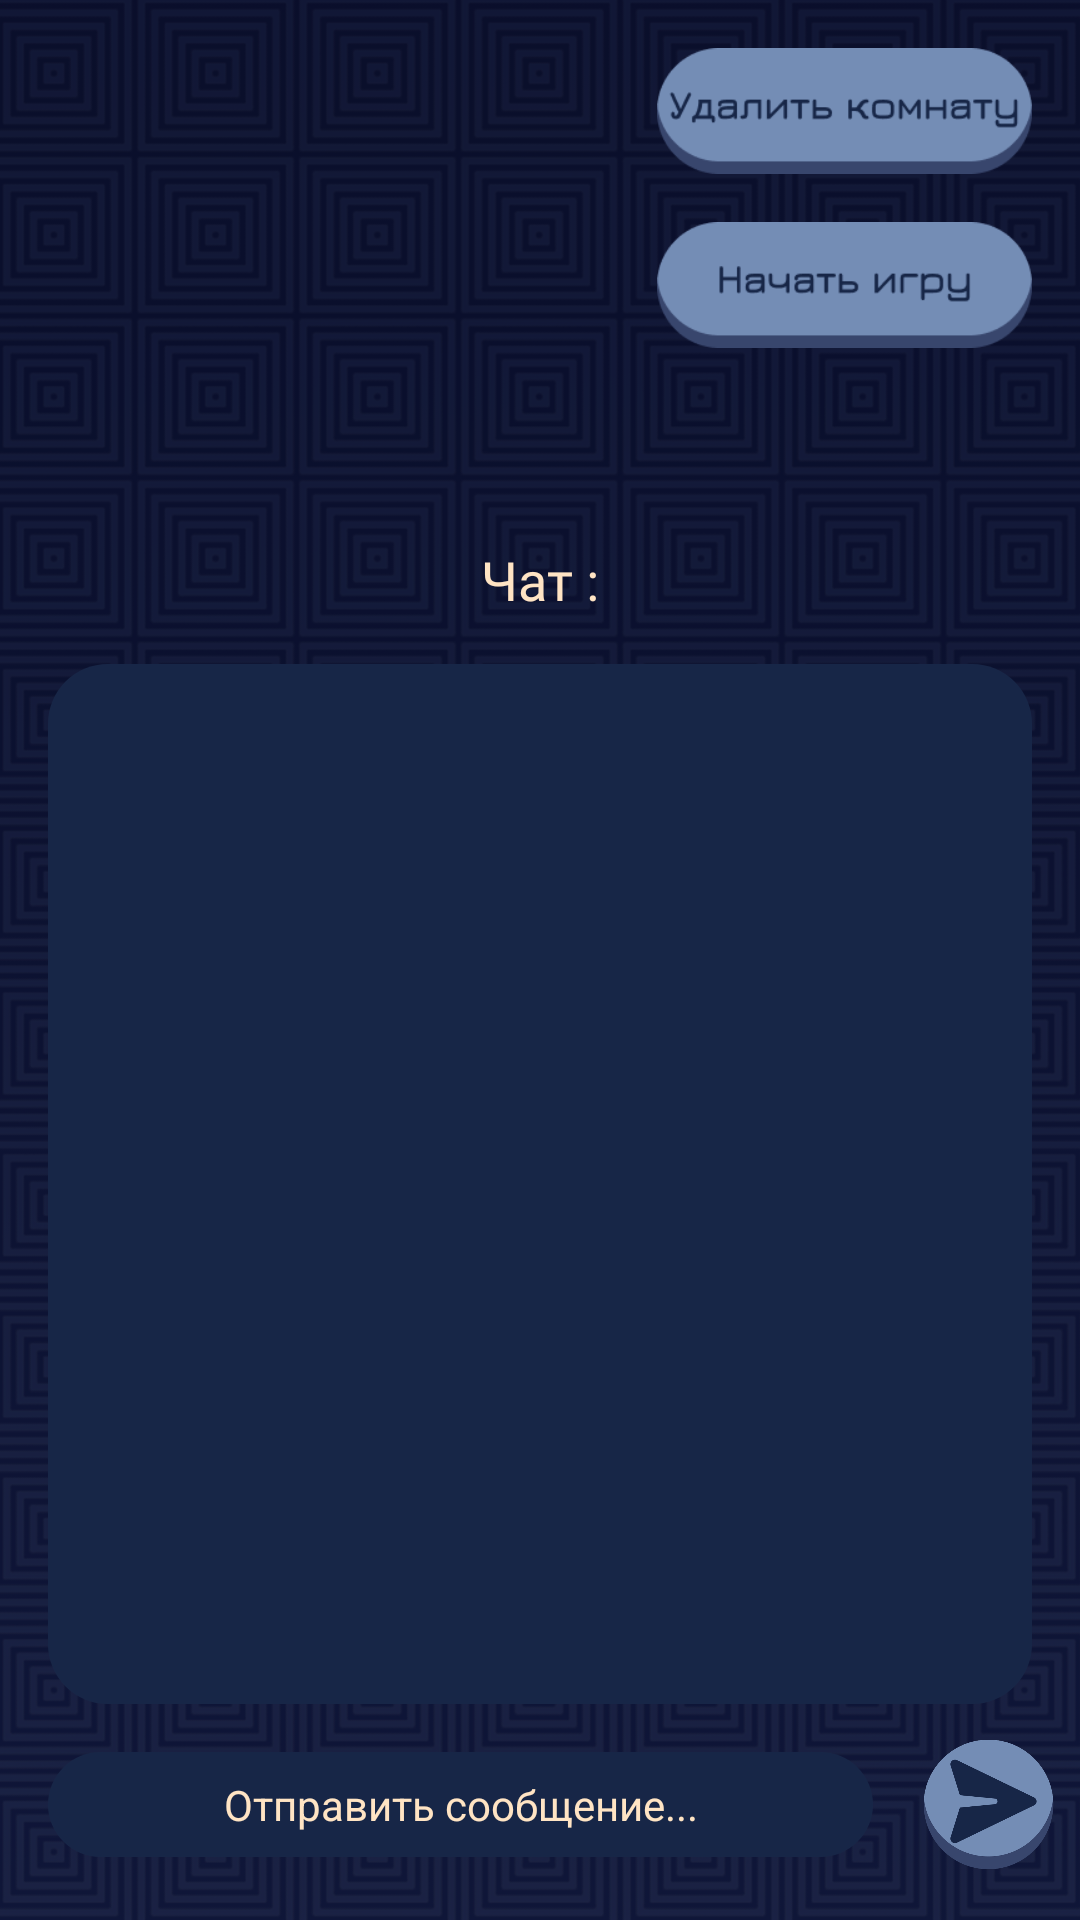

Where to tap for icons on this 1080 x 1920 app screen, as (x=x, y=y):
send: (x=988, y=1804)
